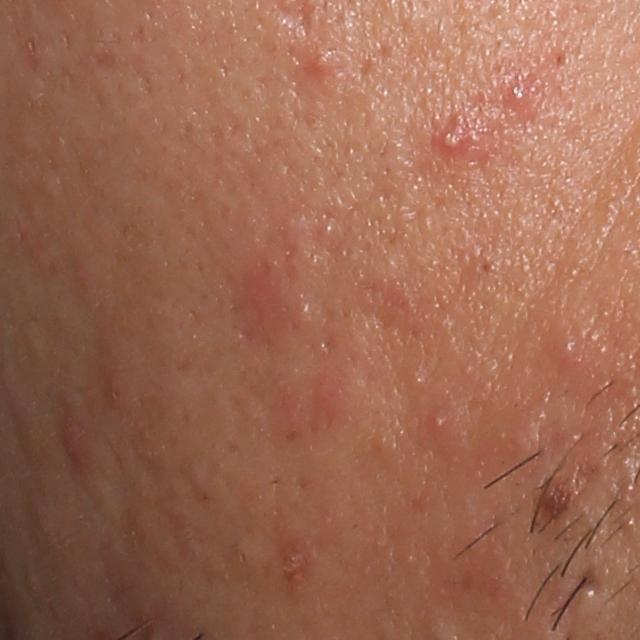comedo: (468, 255, 500, 281), (428, 411, 448, 435)
papule: (54, 407, 86, 476), (503, 78, 532, 109)
pustule: (435, 128, 470, 156)
